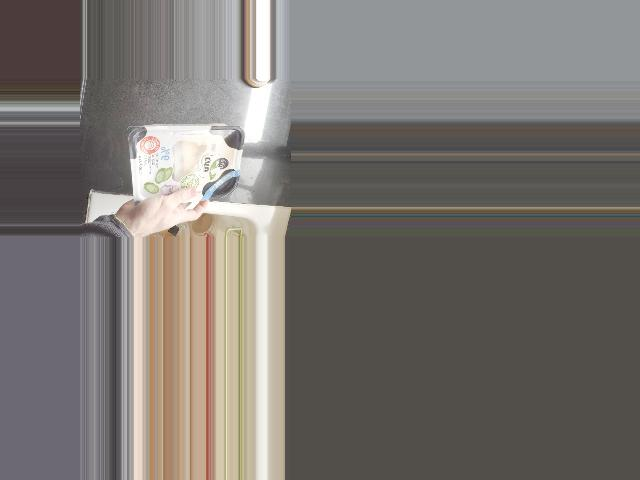cheese: (128, 125, 242, 210)
